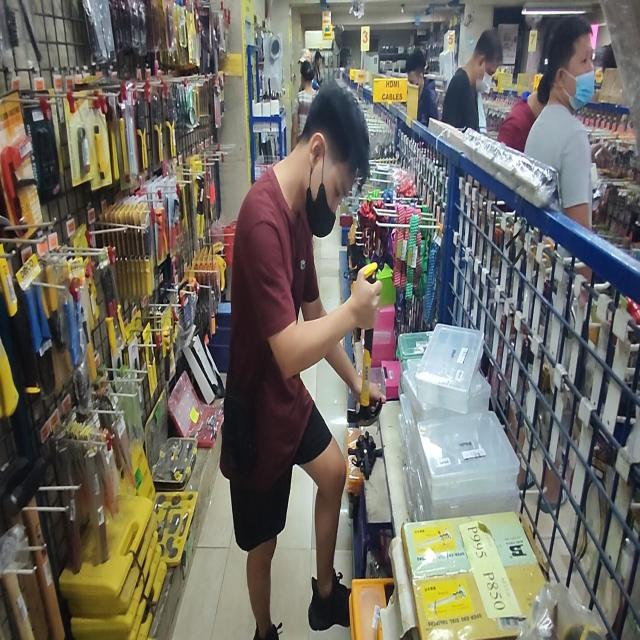hammer: (347, 263, 383, 427)
